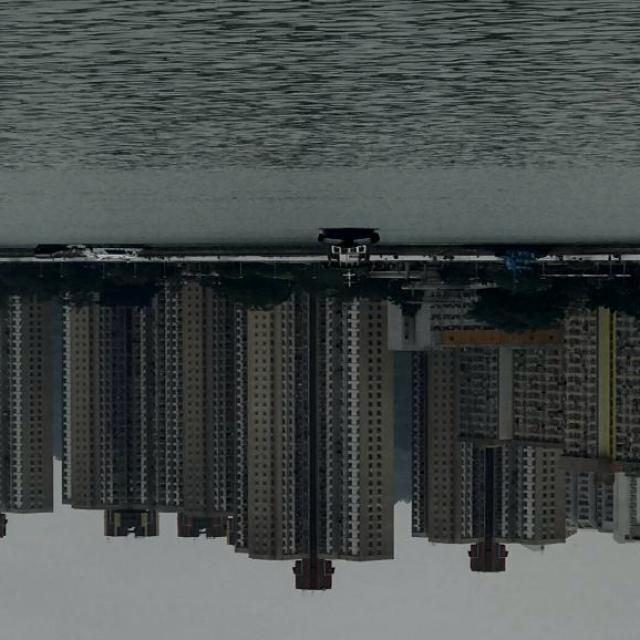ship: (26, 236, 163, 271), (471, 239, 562, 286), (314, 225, 388, 282)
